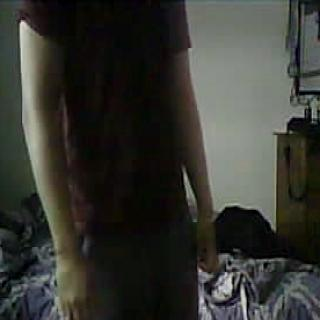Gray Sweatpants: (77, 228, 198, 320)
Maroon T-Shirt: (20, 0, 196, 225)
